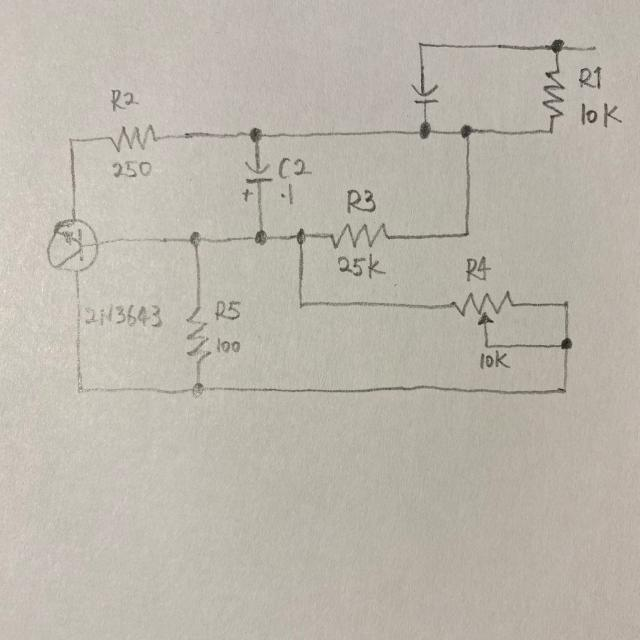capacitor: (240, 160, 273, 203), (408, 80, 441, 105)
junction: (241, 116, 275, 147), (181, 224, 208, 256), (409, 116, 438, 145), (247, 220, 270, 250), (288, 222, 312, 250), (453, 116, 478, 142), (187, 377, 214, 401), (546, 31, 570, 58), (554, 330, 578, 356), (409, 32, 432, 56), (60, 127, 82, 152), (292, 291, 314, 316), (71, 375, 91, 402), (454, 220, 476, 244), (556, 292, 578, 315), (554, 376, 572, 401), (541, 122, 566, 140), (480, 336, 494, 350)
resistor: (448, 287, 519, 327), (325, 220, 393, 249), (183, 302, 211, 365), (105, 120, 160, 152), (542, 66, 566, 119)
terminal: (582, 34, 611, 56)
text: (84, 300, 163, 332), (335, 252, 388, 280), (578, 101, 625, 131), (105, 80, 142, 114), (107, 156, 154, 181), (344, 184, 376, 217), (462, 252, 492, 284), (210, 297, 244, 323), (278, 155, 313, 179), (578, 65, 606, 91), (475, 350, 512, 369), (213, 334, 245, 355), (278, 183, 296, 209)
transistor: (42, 209, 108, 279)
